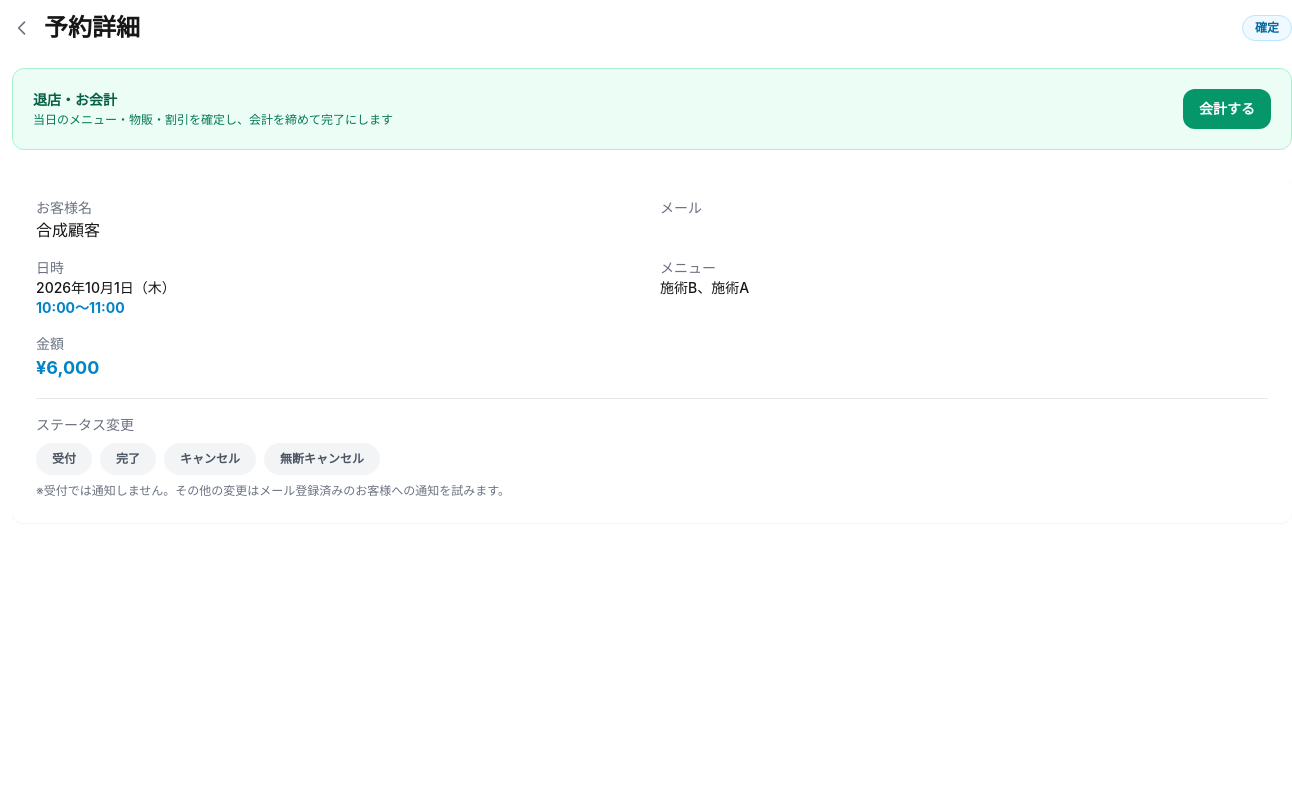
Test: ポイント利用 › ポイントを使っていない予約（0）は何も出さない
Expected: the text "¥6,000" is shown, [36,357,99,378]
Click the button "会計する" at (1227, 109), box [1183,89,1271,129]
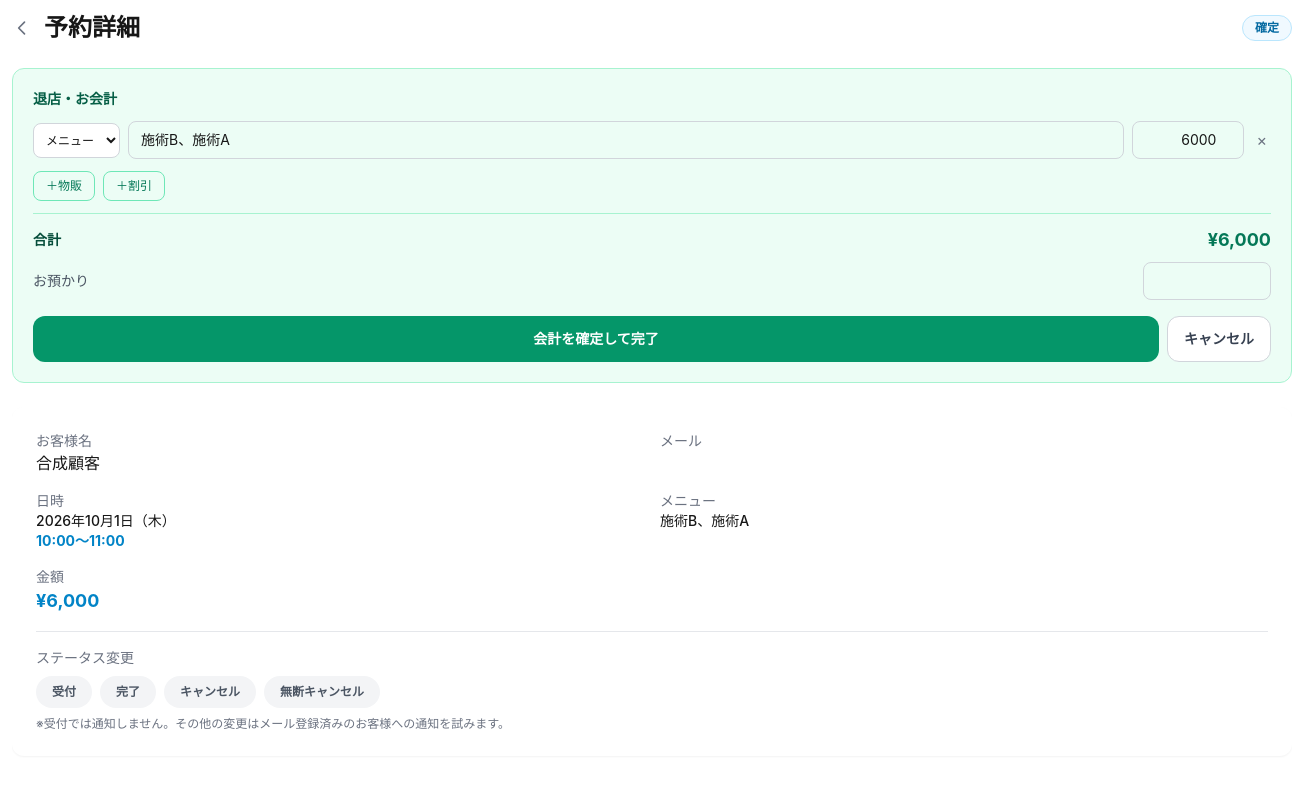
Expected: the number field named "金額" holds "6000", [1132,121,1244,159]
